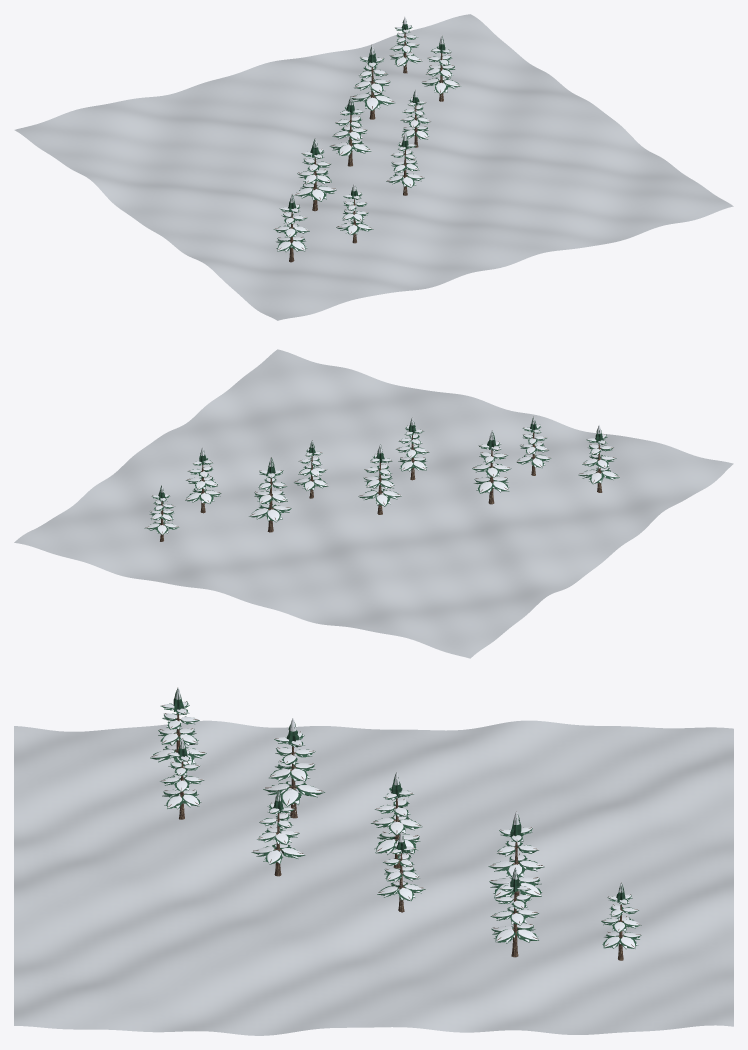
File: area_forest.glb
3 views of the same model, one above another, from view 1: azimuth 30°, elevation 25°; view 2: azimuth 150°, elevation 25°; view 3: azimuth 270°, elevation 25° (orthographic). The views are drawn at different scales.
Parts seen in each view (by area): view 1: 지면_눈; view 2: 지면_눈; view 3: 지면_눈.
Boxes of the visible parts, x1,y1,x2,y2 form: 지면_눈: (14,14,733,320); 지면_눈: (14,349,733,658); 지면_눈: (14,720,733,1035).
Size of the model in its own units: 2515 by 418 by 2515.
